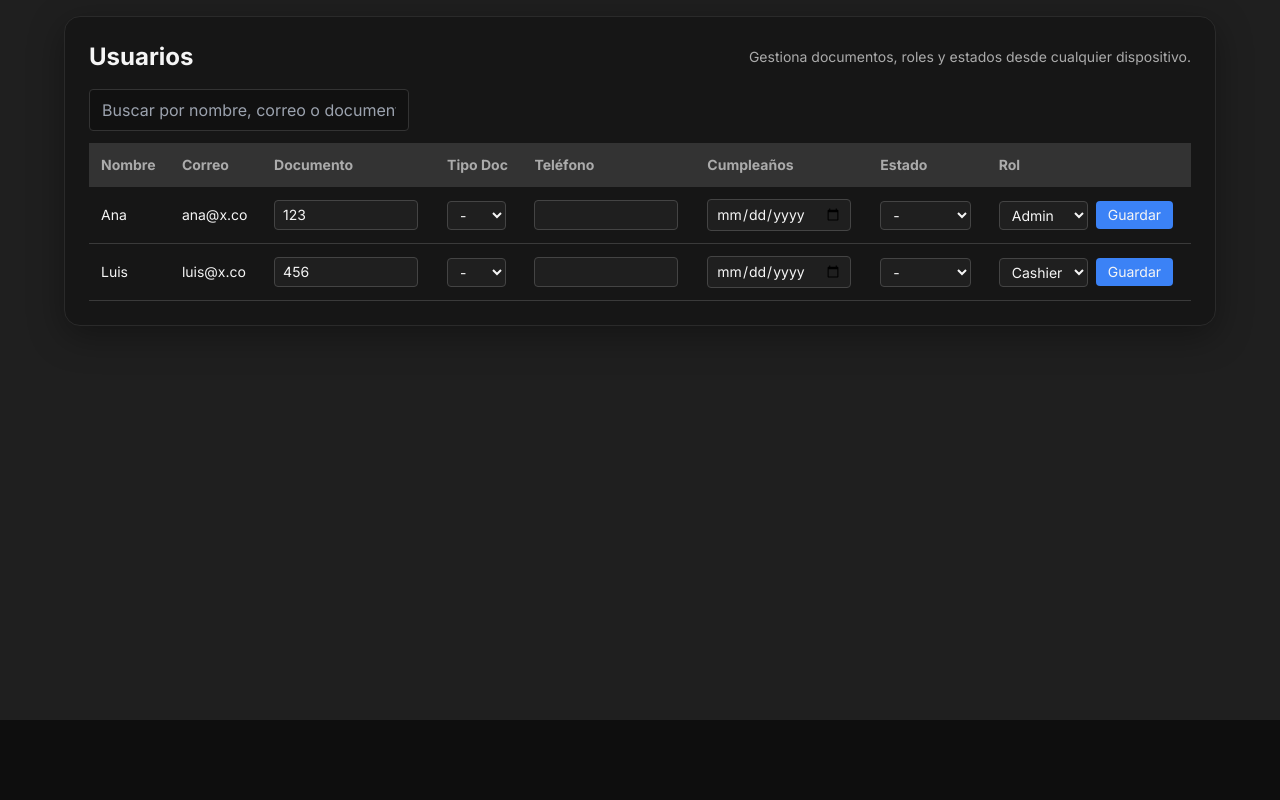
Test: AdminUsers › lista usuarios y filtra por texto
Expected: the text "Ana" is shown, [89, 187, 170, 244]
Expected: the text "Luis" is shown, [89, 244, 170, 300]
Type "luis" into the field with placeholder "Buscar por nombre, correo o documento". click: (249, 110)
box: [89, 89, 409, 131]
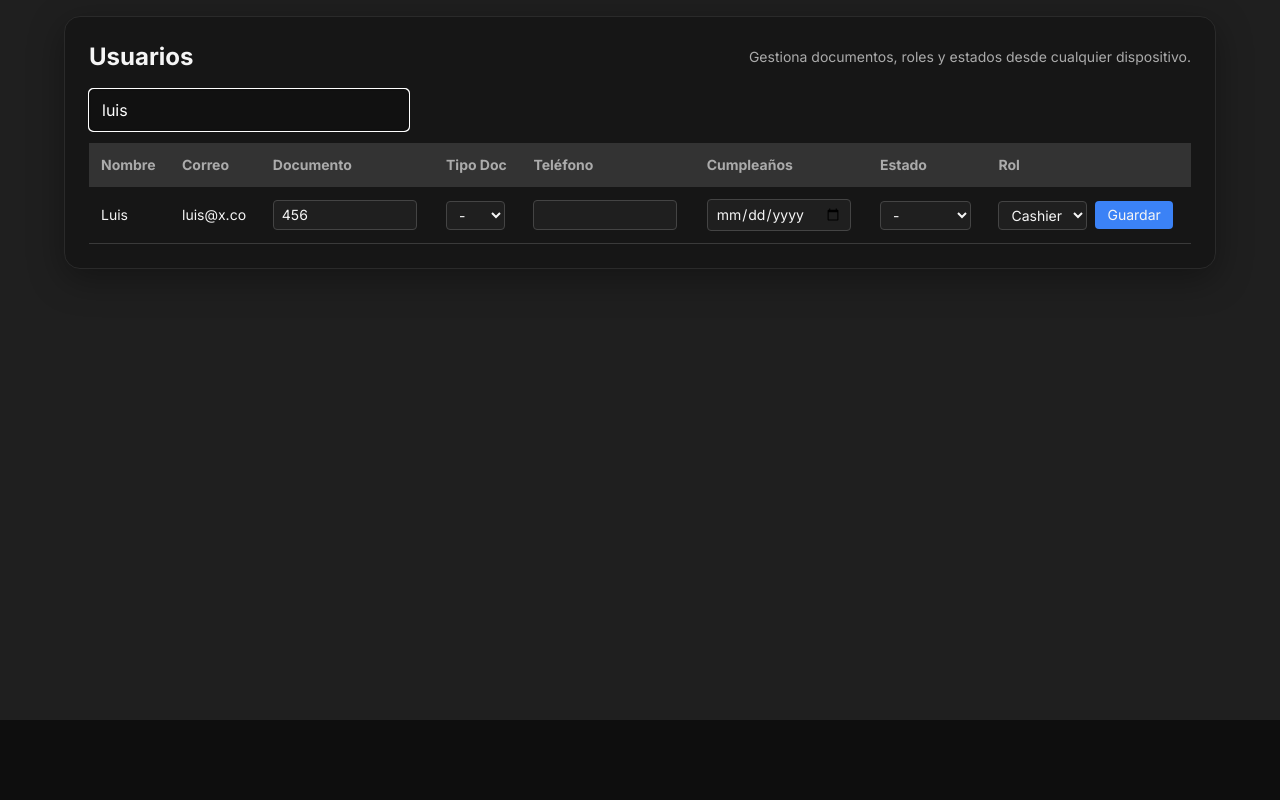
Expected: the text "Luis" is shown, [89, 187, 170, 244]
Result: the text "Ana" is gone
